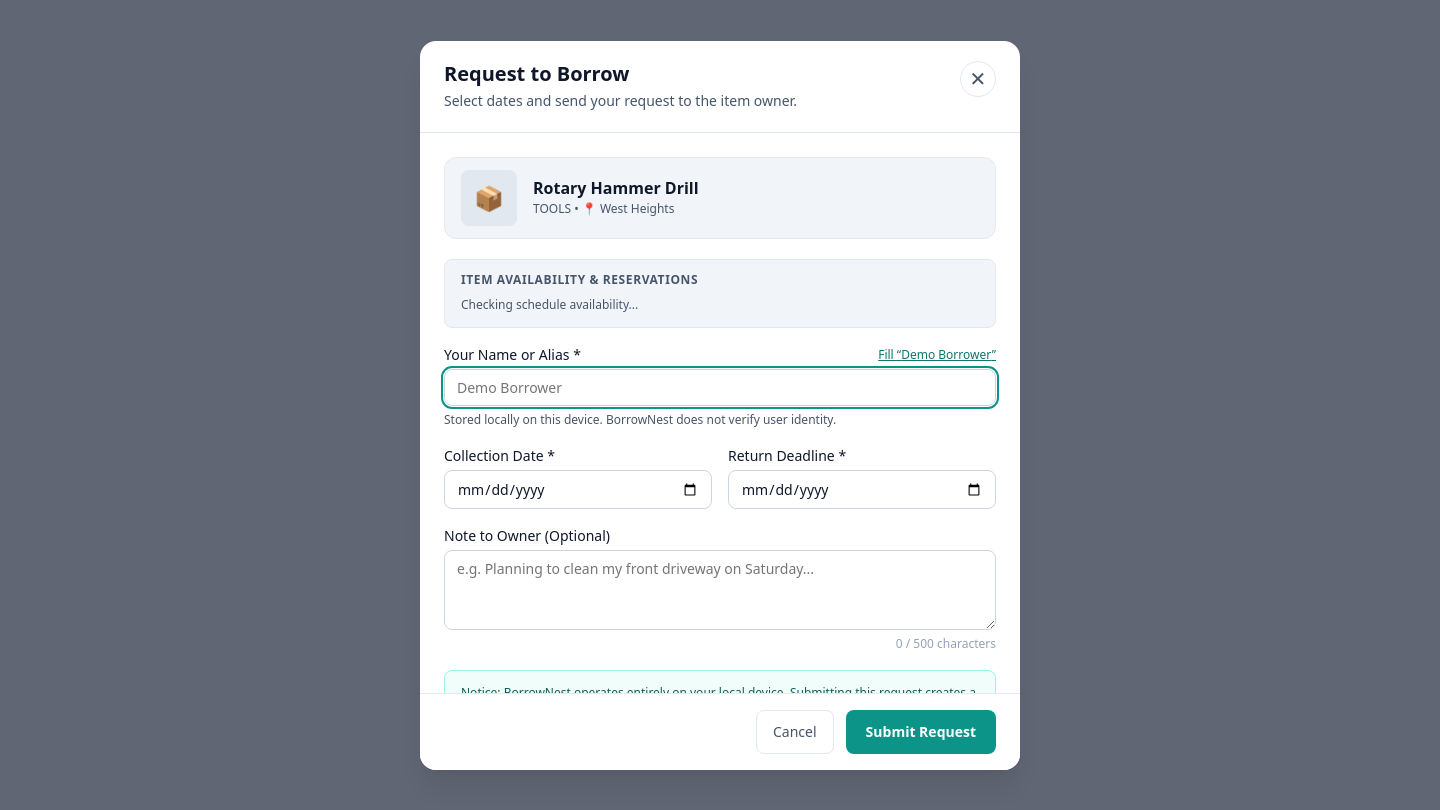
Test case: BorrowRequestDialog UI and Validation › displays field-level validation errors when submitting empty form
The width and height of the screenshot is (1440, 810).
Click the button "Submit Request": (921, 732) [846,710,996,754]
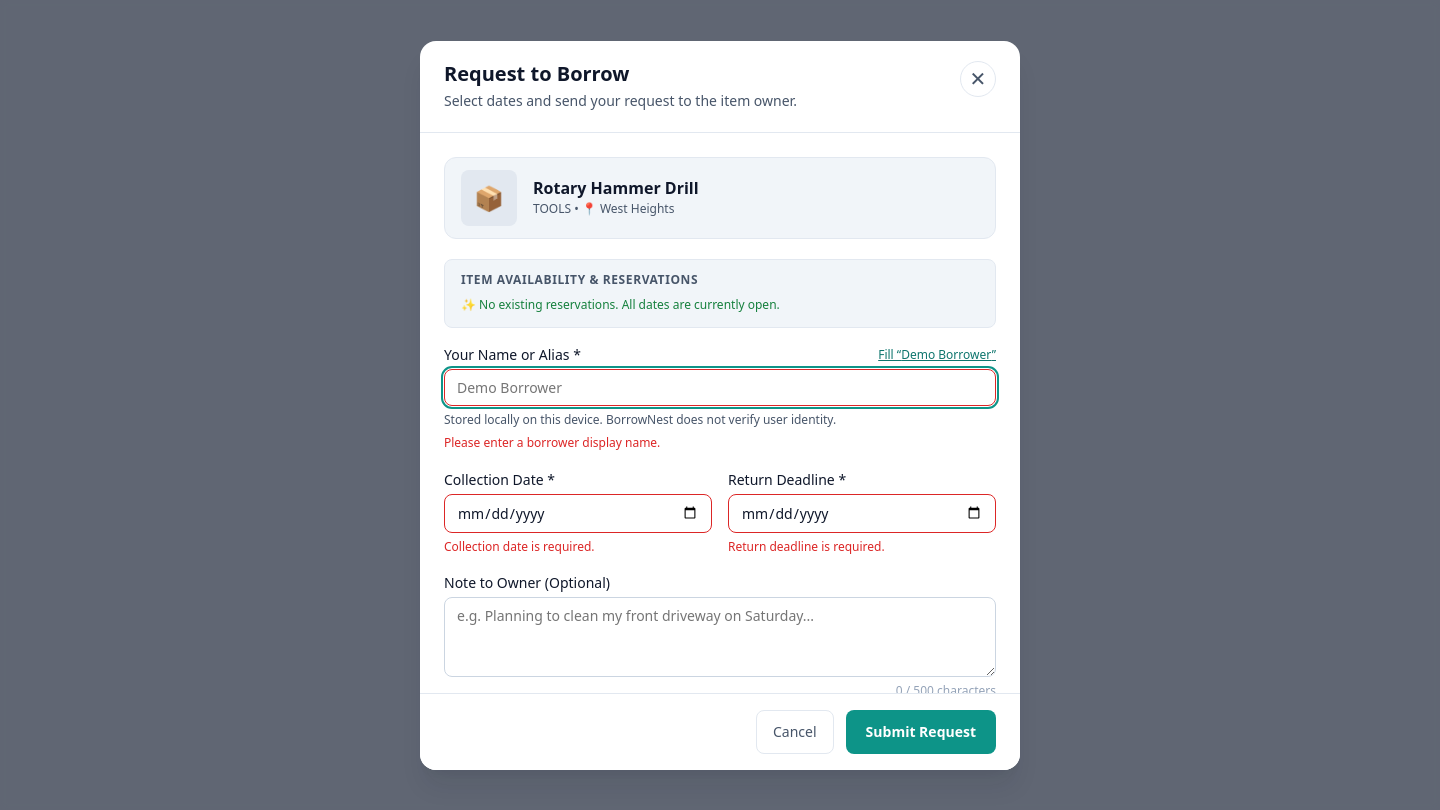
Result: the text "Please enter a borrower display name." is shown at [444,434,660,451]
Result: the text "Collection date is required." is shown at [444,538,594,555]
Result: the text "Return deadline is required." is shown at [728,538,885,555]
